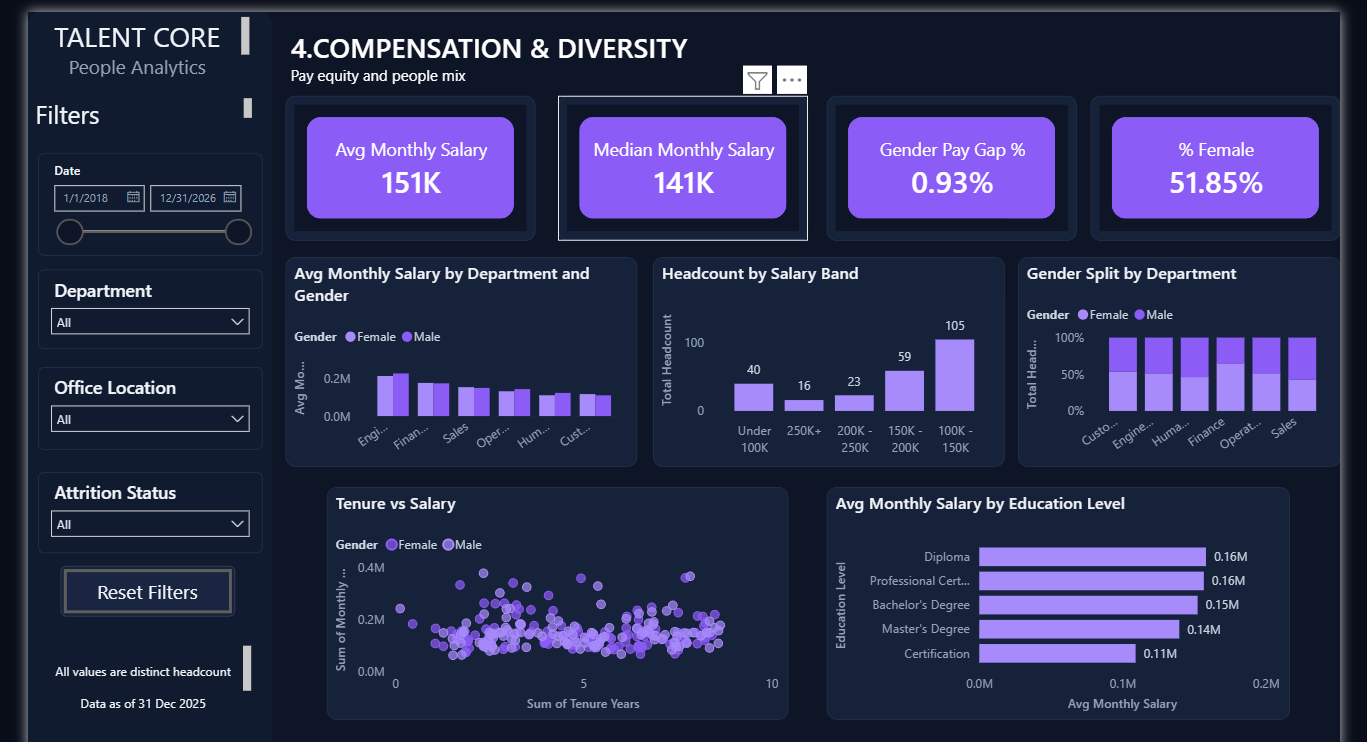

The page's visual inventory and layout, read from the dashboard file:
{"tool":"powerbi","page":{"name":"Compensation & Diversity","canvas":[1280,720],"ordinal":3},"visuals":[{"type":"shape","box":[0,0,238.1,720],"z":0},{"type":"textbox","box":[0,0,221.1,68.4],"z":1000},{"type":"textbox","box":[1.9,79.4,221.1,45.4],"z":2000},{"type":"slicer","fields":{"Values":["Date Table.Date"]},"box":[9.5,138.4,219.5,100.2],"z":3000},{"type":"slicer","fields":{"Values":["TalentCore_HR_Workforce_Data.Department"]},"box":[9.5,251.3,219.5,77.9],"z":4000},{"type":"slicer","fields":{"Values":["TalentCore_HR_Workforce_Data.Office Location"]},"box":[9.5,346.8,219.5,81.1],"z":5000},{"type":"slicer","fields":{"Values":["TalentCore_HR_Workforce_Data.Attrition Status"]},"box":[9.5,448.6,219.5,79.5],"z":6000},{"type":"actionButton","box":[31.8,540.8,170.2,49.3],"z":7000},{"type":"textbox","box":[9.5,614,213.1,74.8],"z":8000},{"type":"cardVisual","fields":{"Data":["TalentCore_HR_Workforce_Data.Avg Monthly Salary"]},"box":[251.3,81.1,244.1,141.9],"z":9000},{"type":"cardVisual","fields":{"Data":["TalentCore_HR_Workforce_Data.Median Monthly Salary"]},"box":[516.9,81.1,244.1,141.9],"z":10000},{"type":"cardVisual","fields":{"Data":["TalentCore_HR_Workforce_Data.Gender Pay Gap %"]},"box":[779.4,81.1,244.1,141.9],"z":11000},{"type":"cardVisual","fields":{"Data":["TalentCore_HR_Workforce_Data.% Female"]},"box":[1037.1,81.1,244.1,141.9],"z":12000},{"type":"clusteredColumnChart","fields":{"Category":["TalentCore_HR_Workforce_Data.Department"],"Y":["TalentCore_HR_Workforce_Data.Avg Monthly Salary"],"Series":["TalentCore_HR_Workforce_Data.Gender"]},"box":[251.3,238.6,343.6,205.2],"z":13000},{"type":"columnChart","title":"Headcount by Salary Band","fields":{"Category":["TalentCore_HR_Workforce_Data.Salary Band"],"Y":["TalentCore_HR_Workforce_Data.Total Headcount"]},"box":[609.2,238.6,343.6,205.2],"z":14000},{"type":"scatterChart","title":"Tenure vs Salary","fields":{"X":["Sum(TalentCore_HR_Workforce_Data.Tenure Years)"],"Y":["Sum(TalentCore_HR_Workforce_Data.Monthly Salary (KES))"],"Series":["TalentCore_HR_Workforce_Data.Gender"],"Category":["TalentCore_HR_Workforce_Data.Employee ID"]},"box":[291.1,462.9,450.1,227.5],"z":15000},{"type":"hundredPercentStackedColumnChart","title":"Gender Split by Department","fields":{"Category":["TalentCore_HR_Workforce_Data.Department"],"Y":["TalentCore_HR_Workforce_Data.Total Headcount"],"Series":["TalentCore_HR_Workforce_Data.Gender"]},"box":[965.5,238.6,314.9,205.2],"z":16000},{"type":"clusteredBarChart","fields":{"Category":["TalentCore_HR_Workforce_Data.Education Level"],"Y":["TalentCore_HR_Workforce_Data.Avg Monthly Salary"]},"box":[779.4,462.9,451.7,227.5],"z":17000},{"type":"textbox","box":[251.3,11.1,1016.4,68.4],"z":18000}]}

Visuals, with their boxes on the page's 1280x720 design canvas (x1, y1, x2, y2). These are canvas units, not pixel positions in the 1367x742 screenshot, which may show the page scaled, cropped or inside an application window:
shape: x1=0 y1=0 x2=238 y2=720
textbox: x1=0 y1=0 x2=221 y2=68
textbox: x1=2 y1=79 x2=223 y2=125
slicer - Date Table.Date: x1=10 y1=138 x2=229 y2=239
slicer - TalentCore_HR_Workforce_Data.Department: x1=10 y1=251 x2=229 y2=329
slicer - TalentCore_HR_Workforce_Data.Office Location: x1=10 y1=347 x2=229 y2=428
slicer - TalentCore_HR_Workforce_Data.Attrition Status: x1=10 y1=449 x2=229 y2=528
actionButton: x1=32 y1=541 x2=202 y2=590
textbox: x1=10 y1=614 x2=223 y2=689
cardVisual - TalentCore_HR_Workforce_Data.Avg Monthly Salary: x1=251 y1=81 x2=495 y2=223
cardVisual - TalentCore_HR_Workforce_Data.Median Monthly Salary: x1=517 y1=81 x2=761 y2=223
cardVisual - TalentCore_HR_Workforce_Data.Gender Pay Gap %: x1=779 y1=81 x2=1024 y2=223
cardVisual - TalentCore_HR_Workforce_Data.% Female: x1=1037 y1=81 x2=1281 y2=223
clusteredColumnChart - TalentCore_HR_Workforce_Data.Department x TalentCore_HR_Workforce_Data.Avg Monthly Salary: x1=251 y1=239 x2=595 y2=444
"Headcount by Salary Band" columnChart: x1=609 y1=239 x2=953 y2=444
"Tenure vs Salary" scatterChart: x1=291 y1=463 x2=741 y2=690
"Gender Split by Department" hundredPercentStackedColumnChart: x1=966 y1=239 x2=1280 y2=444
clusteredBarChart - TalentCore_HR_Workforce_Data.Education Level x TalentCore_HR_Workforce_Data.Avg Monthly Salary: x1=779 y1=463 x2=1231 y2=690
textbox: x1=251 y1=11 x2=1268 y2=80
